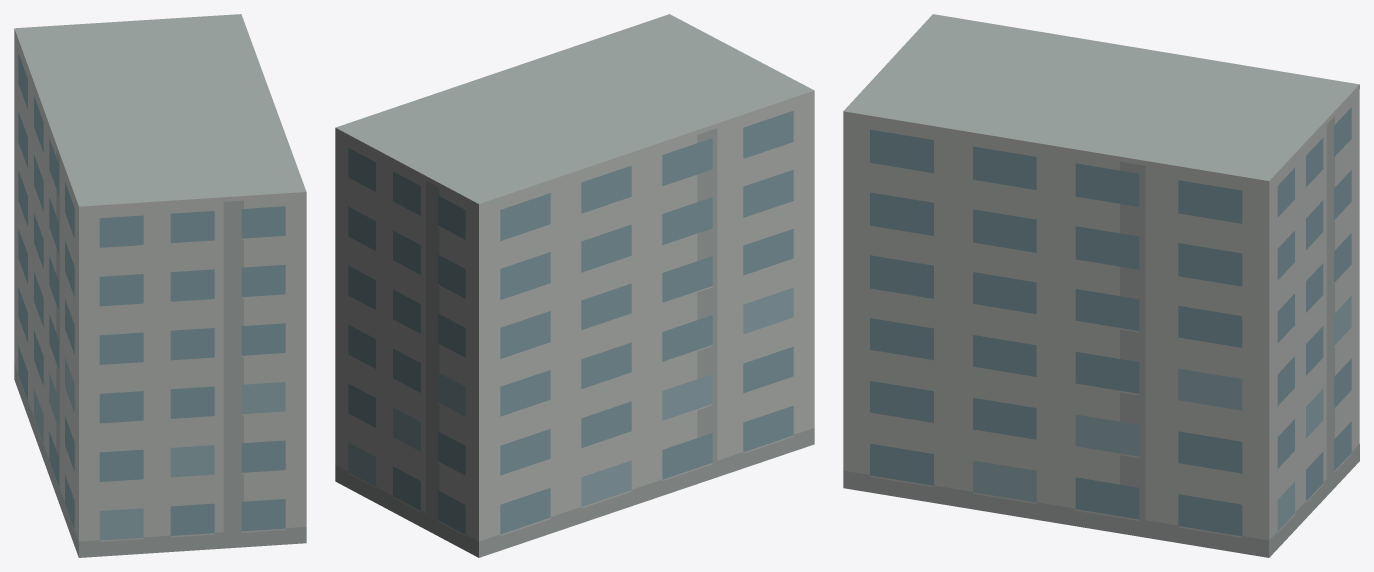
Rendered from survey-upis-32563952.glb.
3 renders of one model, left to right at view 1: azimuth 30°, elevation 25°; view 2: azimuth 150°, elevation 25°; view 3: azimuth 270°, elevation 25°, orthographic. The views are drawn at different scales.
Parts seen in each view (by area): view 1: survey-upis-32563952.tmp; view 2: survey-upis-32563952.tmp; view 3: survey-upis-32563952.tmp.
Boxes of the visible parts, x1,y1,x2,y2 form: survey-upis-32563952.tmp: (14,14,306,557); survey-upis-32563952.tmp: (335,14,814,557); survey-upis-32563952.tmp: (843,14,1359,557).
Size of the model in its own units: 17.41 by 18.3 by 22.74.
